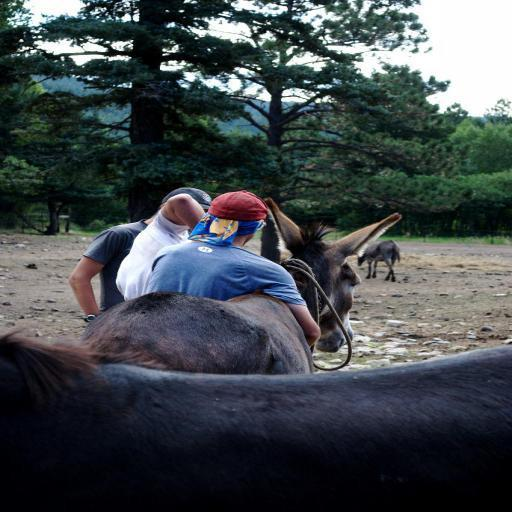horse: (0, 320, 512, 512)
